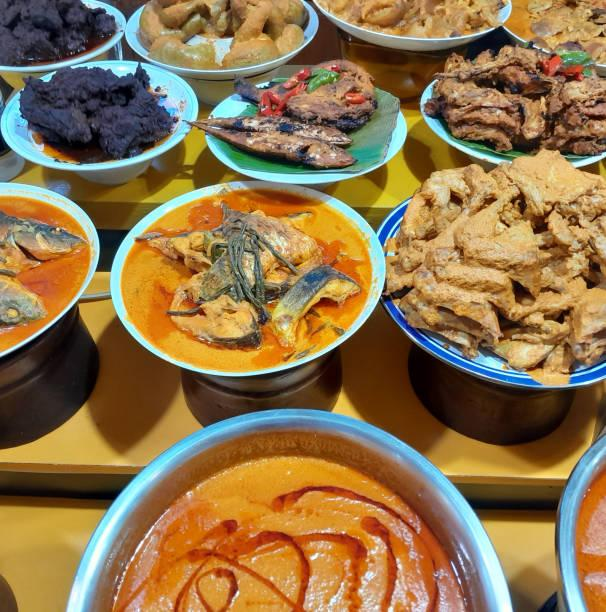Braised Crucian Carp: (107, 180, 381, 376), (372, 190, 602, 387), (3, 63, 195, 186), (201, 69, 401, 177)
